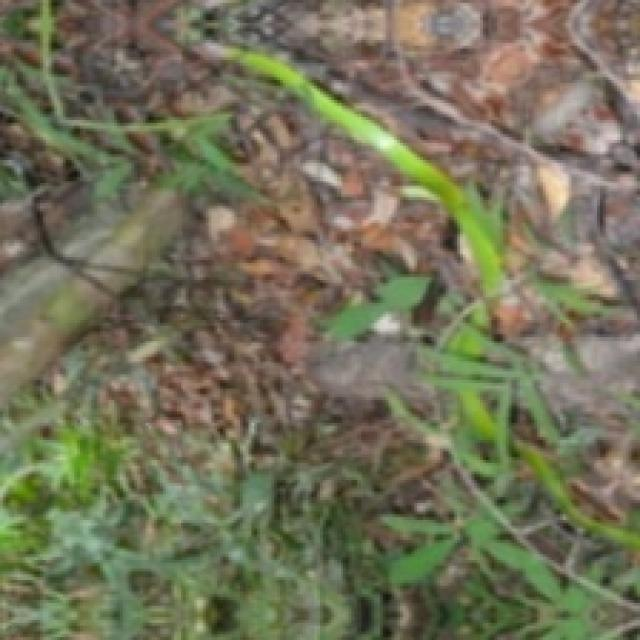red-tailed green ratsnake: (228, 51, 504, 308), (518, 446, 640, 551), (459, 384, 500, 441), (450, 320, 490, 368)
